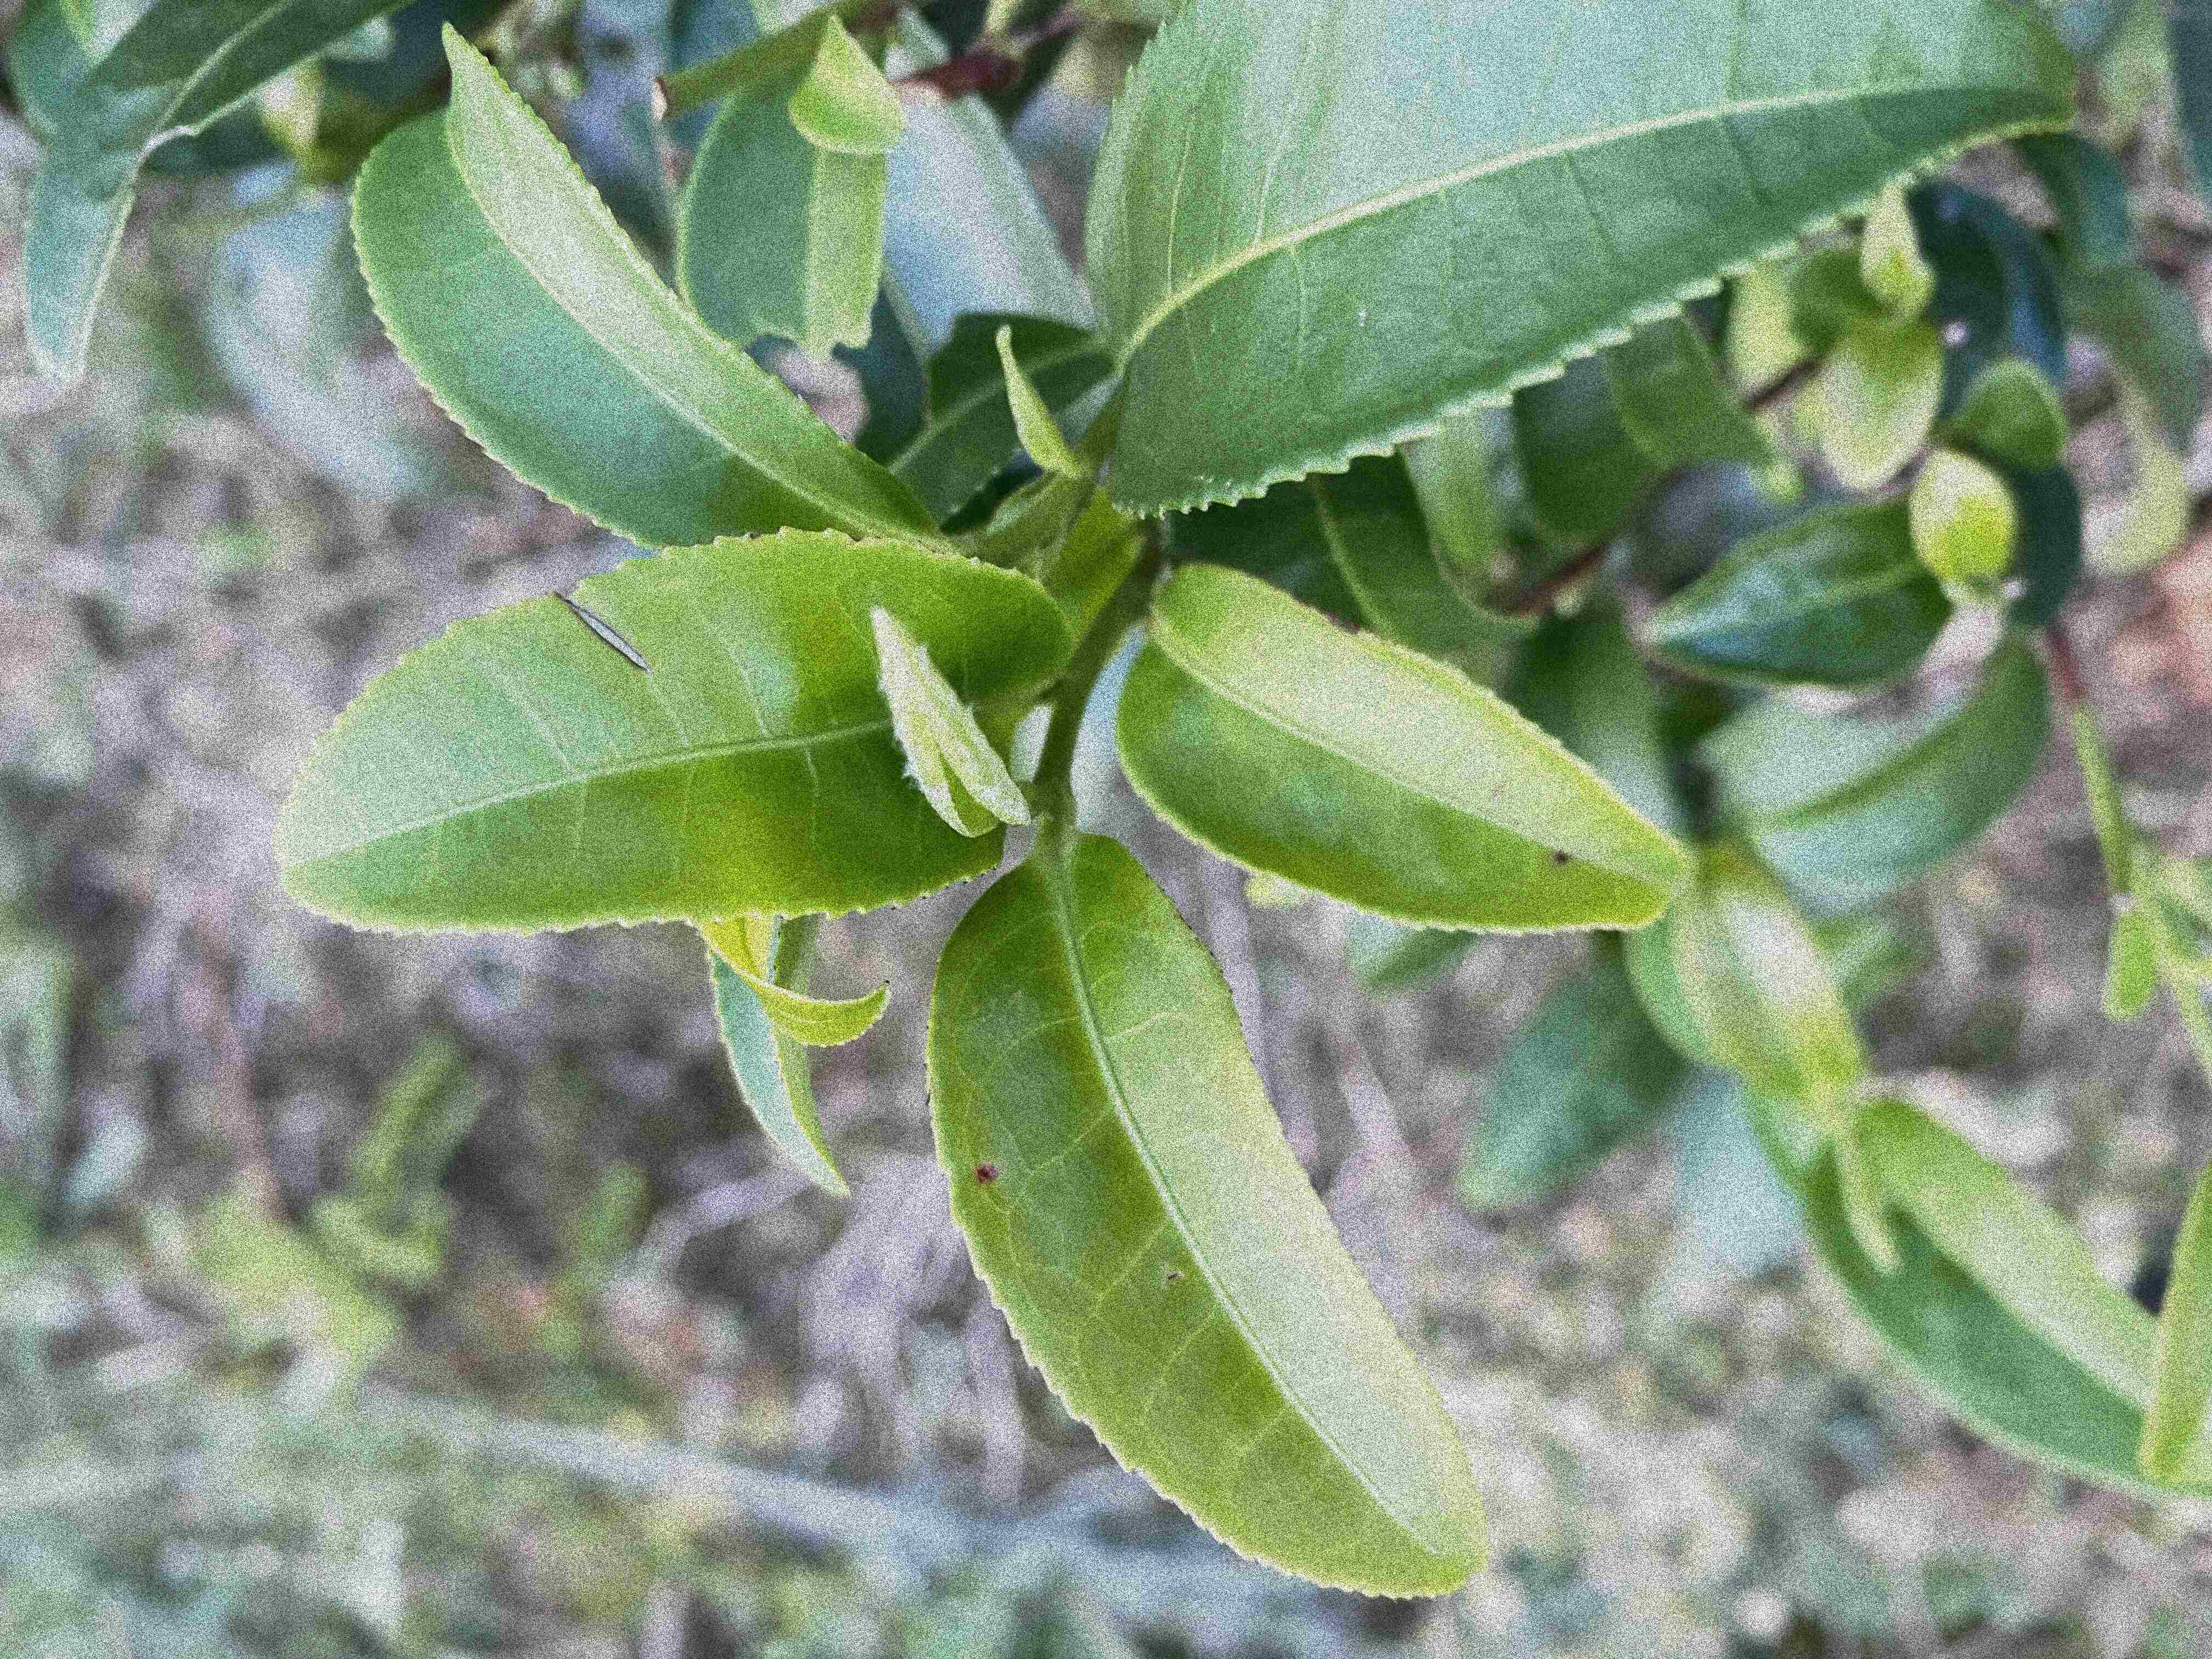chihuo_high: (674, 75, 894, 362)
chihuo_low: (270, 526, 1069, 936), (23, 3, 402, 394)
healthy: (1087, 0, 2087, 519), (347, 21, 953, 547)
tanju_low: (928, 821, 1489, 1601), (1115, 559, 1683, 934)
